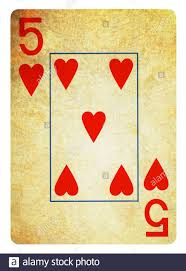five of hearts: (10, 10, 176, 245)
